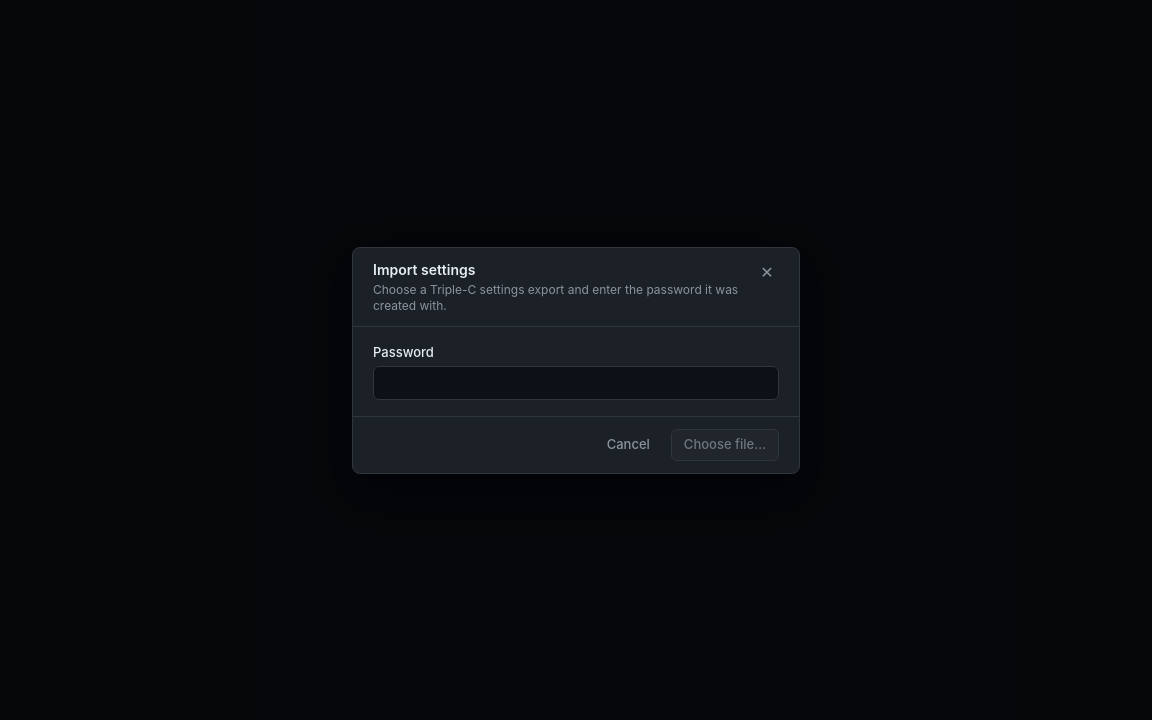
Test: ImportSettingsModal › shows an error when the password is wrong rather than a blank preview
Step 1. Type "wrong" into the password field labelled "Password" → (576, 383), box [373, 366, 779, 400]
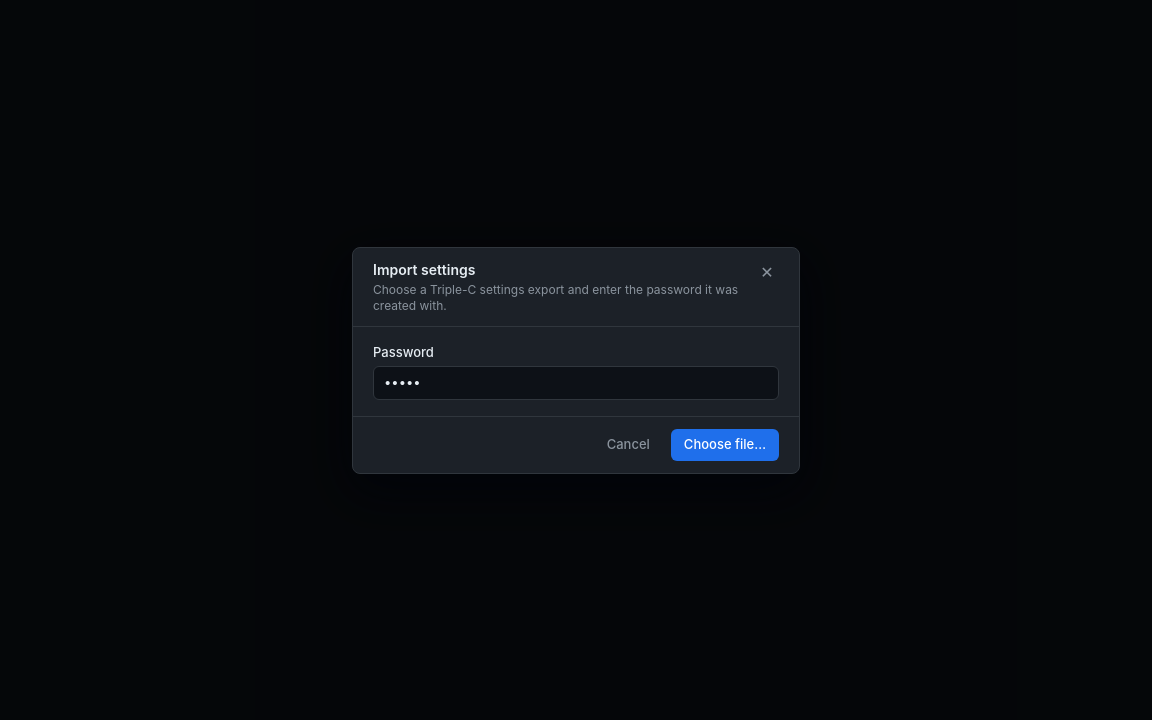
Step 2. Click the button "Choose file…" → (725, 444), box [671, 428, 779, 460]
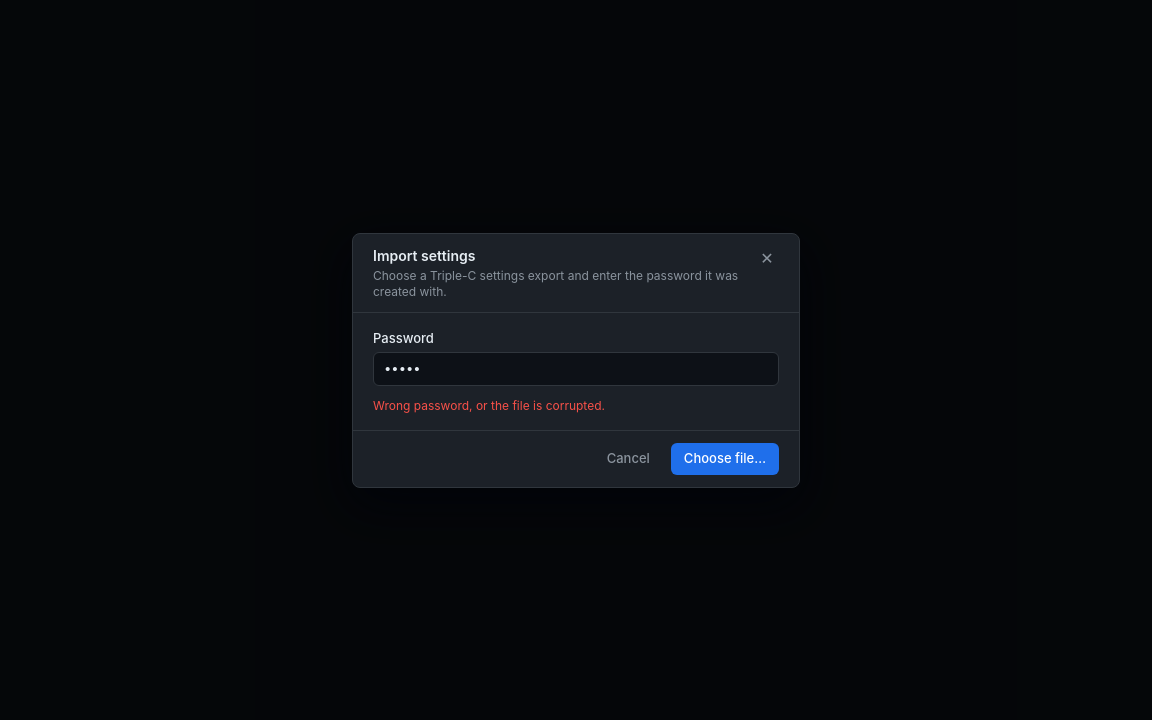
Expected: the text "Wrong password, or the file is corrupted." is shown, [373, 398, 605, 412]
